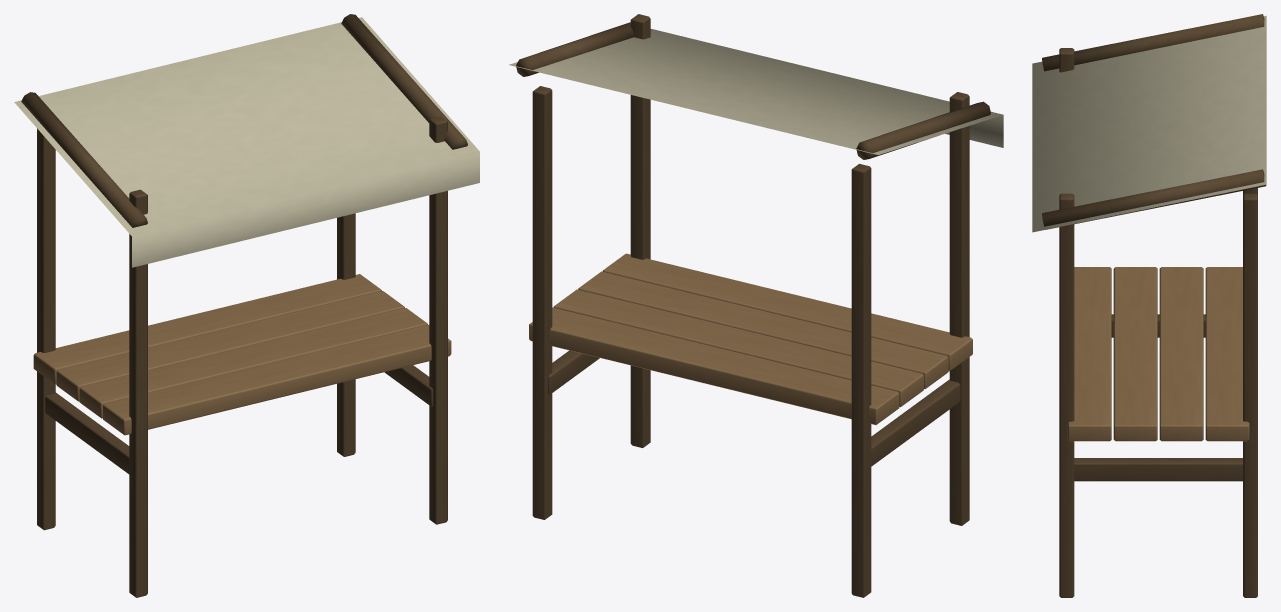
The model's file is s02-stand.glb.
3 renders of one model, left to right at view 1: azimuth 30°, elevation 25°; view 2: azimuth 150°, elevation 25°; view 3: azimuth 270°, elevation 25°, orthographic. The views are drawn at different scales.
Parts seen in each view (by area): view 1: s02-stand; view 2: s02-stand; view 3: s02-stand.
Part boxes in pixels (<box>): s02-stand: <box>14,14,479,597</box>; s02-stand: <box>509,14,1003,597</box>; s02-stand: <box>1032,14,1266,597</box>.
Bounding box in the file's own units: 1.74 × 2.07 × 1.02.
1 material, 1 textured.
